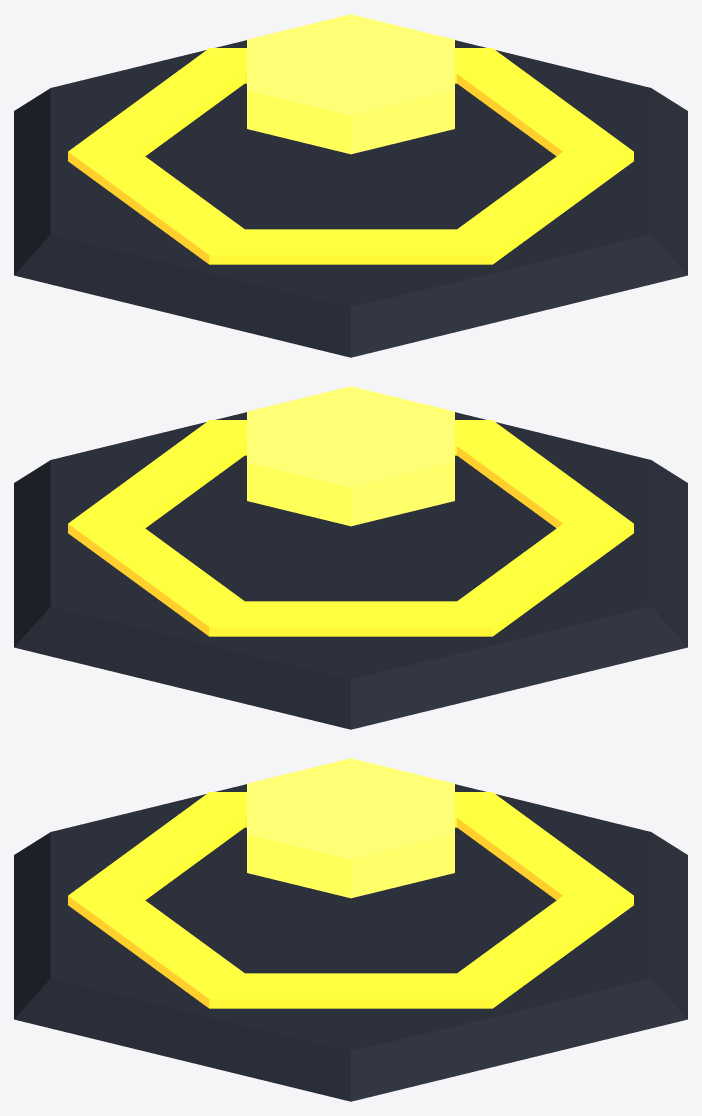
The model's file is boost_pad_small.glb.
3 views of the same model, one above another, from view 1: azimuth 30°, elevation 25°; view 2: azimuth 150°, elevation 25°; view 3: azimuth 270°, elevation 25° (orthographic).
Visible parts, largest first — view 1: BoostPad_Small_Base, BoostPad_Small_Glow; view 2: BoostPad_Small_Base, BoostPad_Small_Glow; view 3: BoostPad_Small_Base, BoostPad_Small_Glow.
Boxes of the visible parts, x1=… form: BoostPad_Small_Base: x1=14, y1=40, x2=687, y2=357; BoostPad_Small_Glow: x1=247, y1=14, x2=454, y2=154; BoostPad_Small_Base: x1=14, y1=412, x2=687, y2=729; BoostPad_Small_Glow: x1=247, y1=386, x2=454, y2=526; BoostPad_Small_Base: x1=14, y1=784, x2=687, y2=1101; BoostPad_Small_Glow: x1=247, y1=758, x2=454, y2=898.
Size of the model in its own units: 1.1 by 0.2 by 0.9526.
